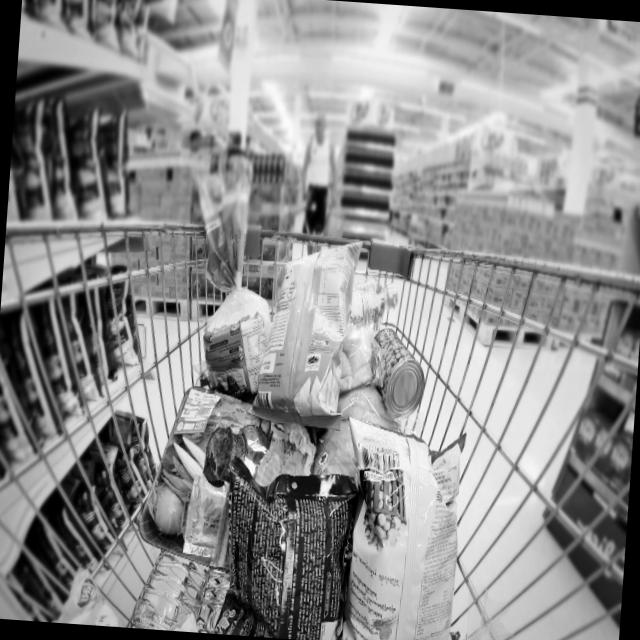bread: (185, 200, 278, 394)
oil: (346, 268, 402, 328)
